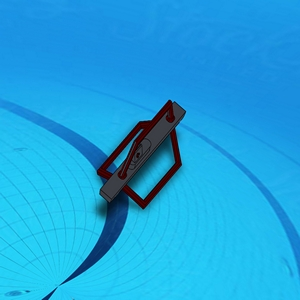submarine: (94, 101, 191, 210)
